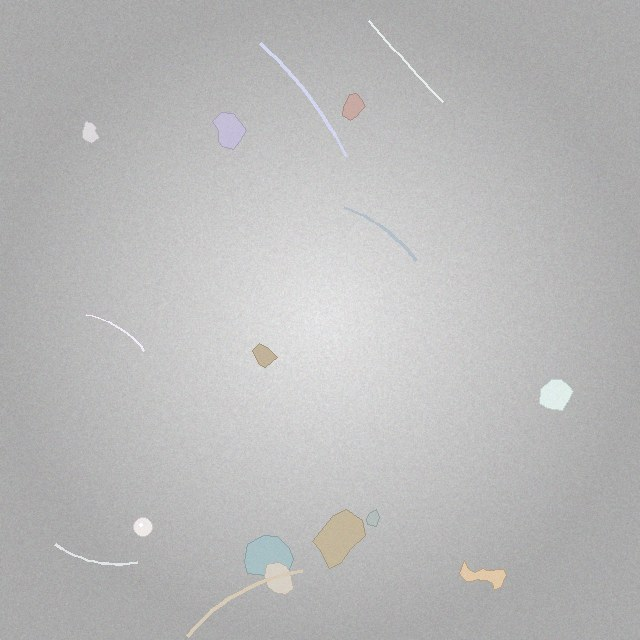fiber: (257, 40, 350, 160), (183, 568, 307, 639), (367, 18, 445, 104), (341, 204, 420, 264), (84, 312, 146, 353), (52, 542, 140, 567)
film: (459, 561, 506, 590)
fragment: (312, 510, 365, 568), (244, 535, 294, 579), (213, 112, 247, 149), (539, 379, 574, 410), (265, 563, 294, 595), (252, 344, 278, 368), (342, 94, 366, 120), (82, 122, 99, 144), (367, 509, 380, 527)
pellet: (134, 517, 152, 536)
